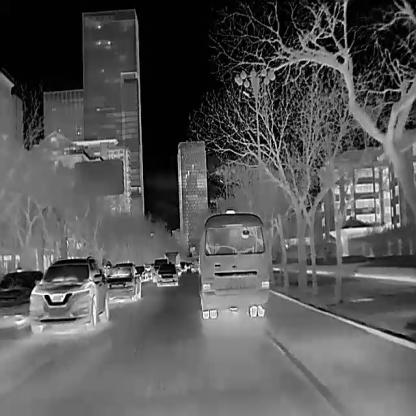bus: (194, 207, 270, 318), (163, 249, 178, 274)
car: (27, 254, 109, 335), (0, 270, 41, 326), (104, 262, 141, 300), (155, 262, 177, 286), (152, 258, 166, 280), (135, 265, 148, 281), (144, 264, 151, 279)
